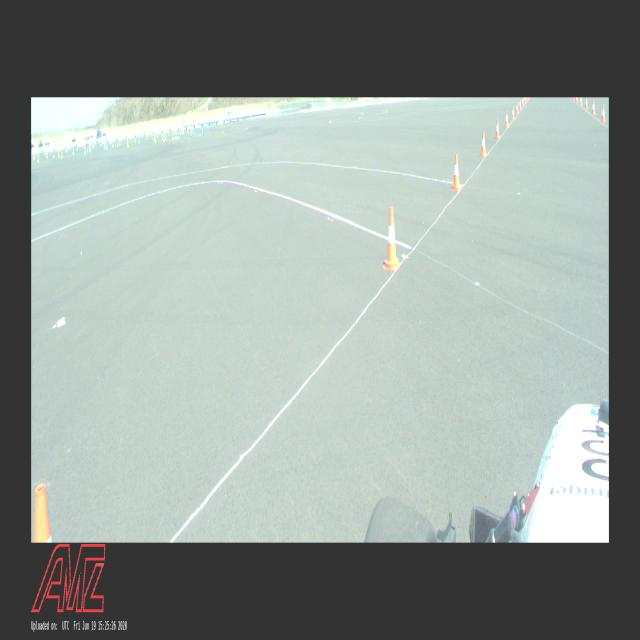orange_cone: (383, 208, 401, 270), (452, 153, 461, 190), (480, 131, 487, 156), (494, 118, 500, 138), (600, 104, 606, 122), (504, 110, 508, 126), (592, 100, 596, 116), (511, 106, 515, 120), (515, 102, 519, 115), (584, 98, 588, 110), (519, 100, 521, 110), (522, 98, 524, 106), (580, 98, 582, 106)
